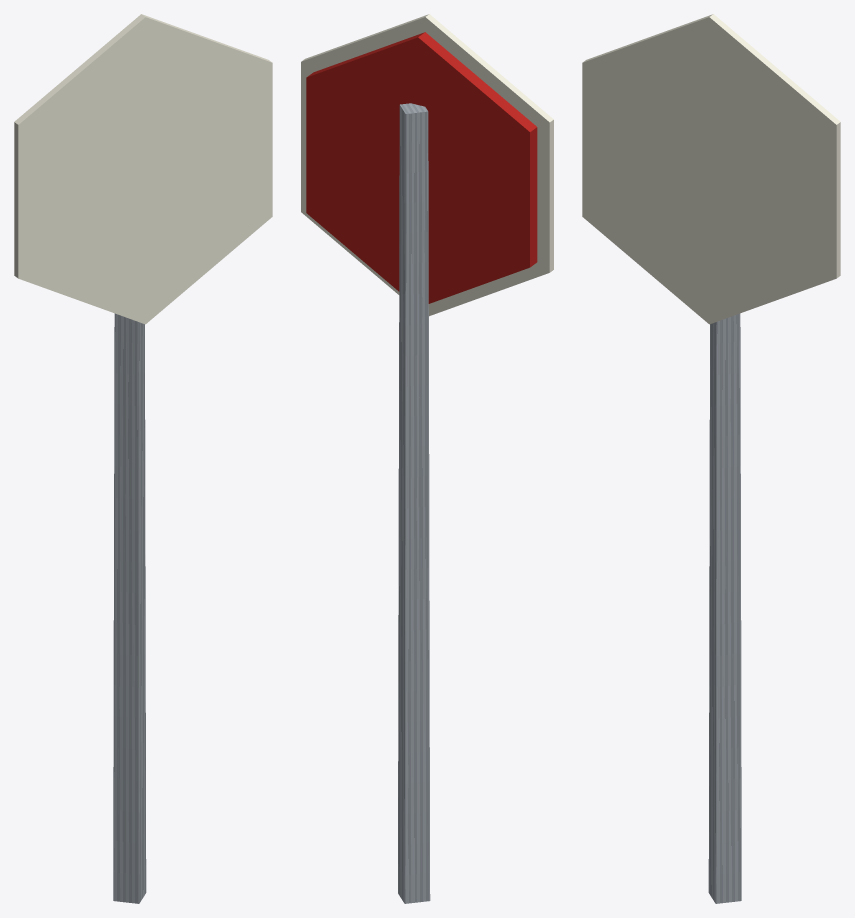
File: stop-sign-lod1.glb
3 renders of one model, left to right at view 1: azimuth 30°, elevation 25°; view 2: azimuth 150°, elevation 25°; view 3: azimuth 330°, elevation 25°, orthographic. The views are drawn at different scales.
Parts seen in each view (by area): view 1: stop-sign-lod1; view 2: stop-sign-lod1; view 3: stop-sign-lod1.
Part boxes in pixels (<box>): stop-sign-lod1: <box>14,14,272,903</box>; stop-sign-lod1: <box>301,14,553,903</box>; stop-sign-lod1: <box>582,14,840,903</box>.
Size of the model in its own units: 0.6928 by 2.32 by 0.12.
1 material, 1 textured.
